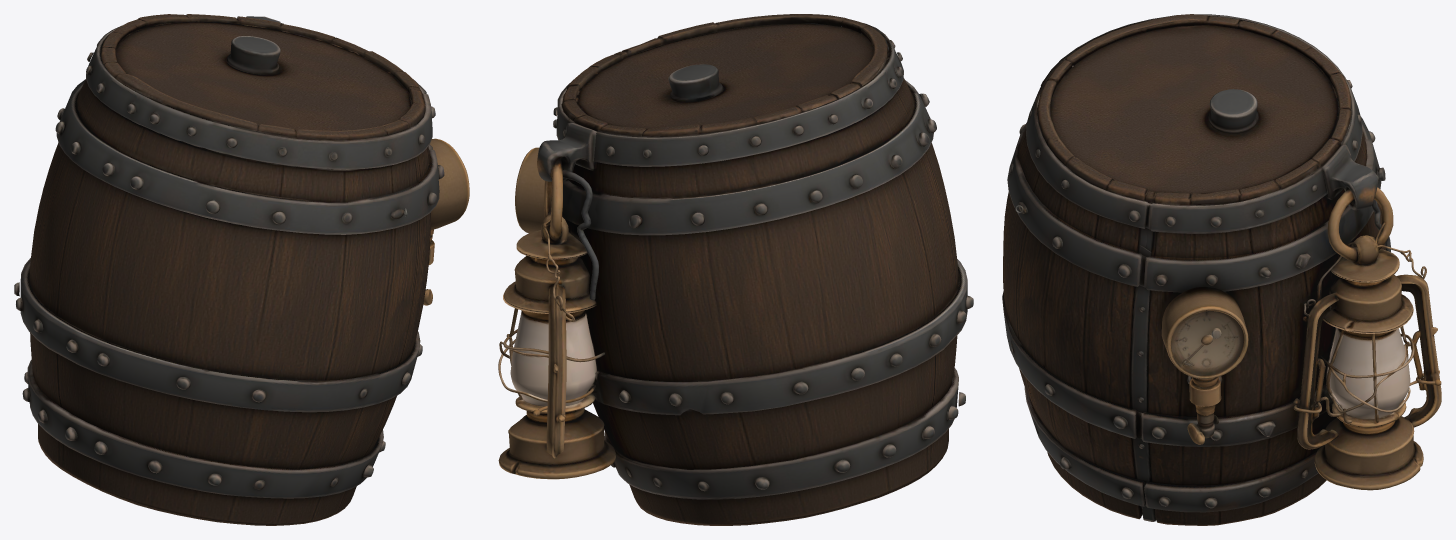
The model's file is SM_Cargo_C_Barrel_Lantern.glb.
3 renders of one model, left to right at view 1: azimuth 30°, elevation 25°; view 2: azimuth 150°, elevation 25°; view 3: azimuth 270°, elevation 25°, orthographic. The views are drawn at different scales.
Parts seen in each view (by area): view 1: tripo_node_cd90b3c7; view 2: tripo_node_cd90b3c7; view 3: tripo_node_cd90b3c7.
Boxes of the visible parts, <box> form: tripo_node_cd90b3c7: <box>14,14,469,525</box>; tripo_node_cd90b3c7: <box>498,14,973,525</box>; tripo_node_cd90b3c7: <box>1002,14,1441,525</box>.
Bounding box in the file's own units: 0.9868 × 0.9995 × 0.9575.
Materials: 1 (1 with a texture image).
